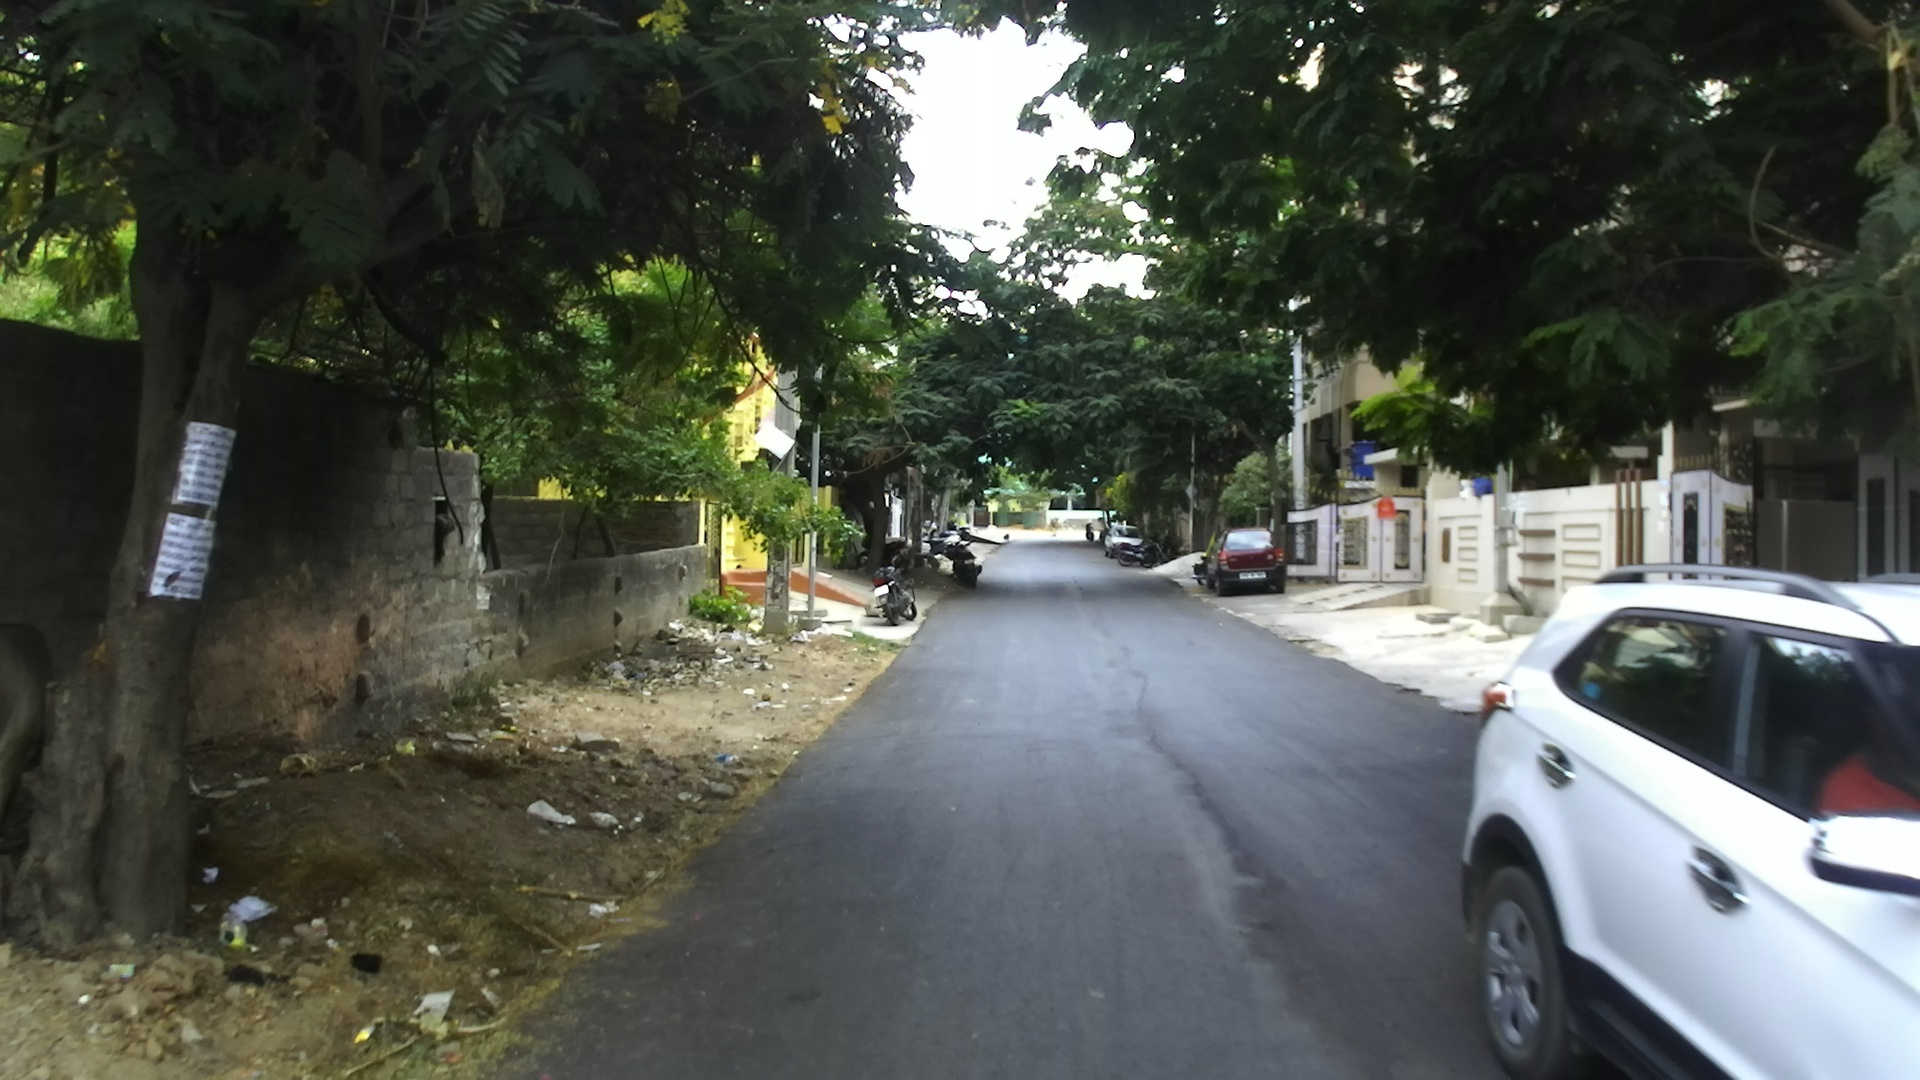vehicle: (1455, 560, 1919, 1073), (1833, 575, 1919, 646), (1211, 527, 1286, 593), (1102, 522, 1146, 564)
